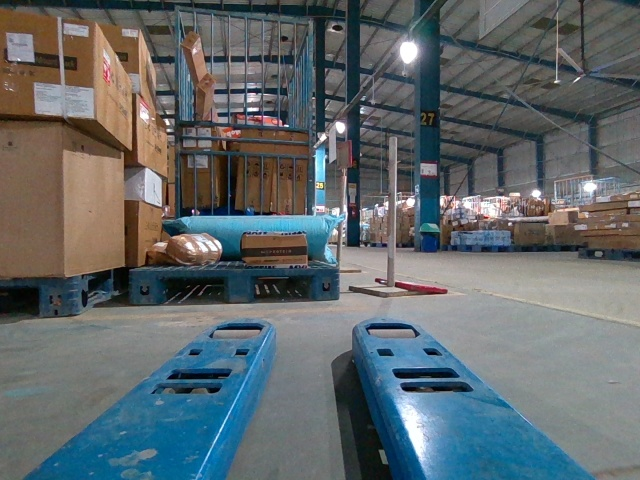block: (39, 276, 79, 318), (223, 264, 257, 306), (128, 270, 161, 306), (314, 268, 338, 297)
front: (129, 267, 338, 301)
hole pallet: (153, 275, 226, 304), (253, 274, 316, 301)
